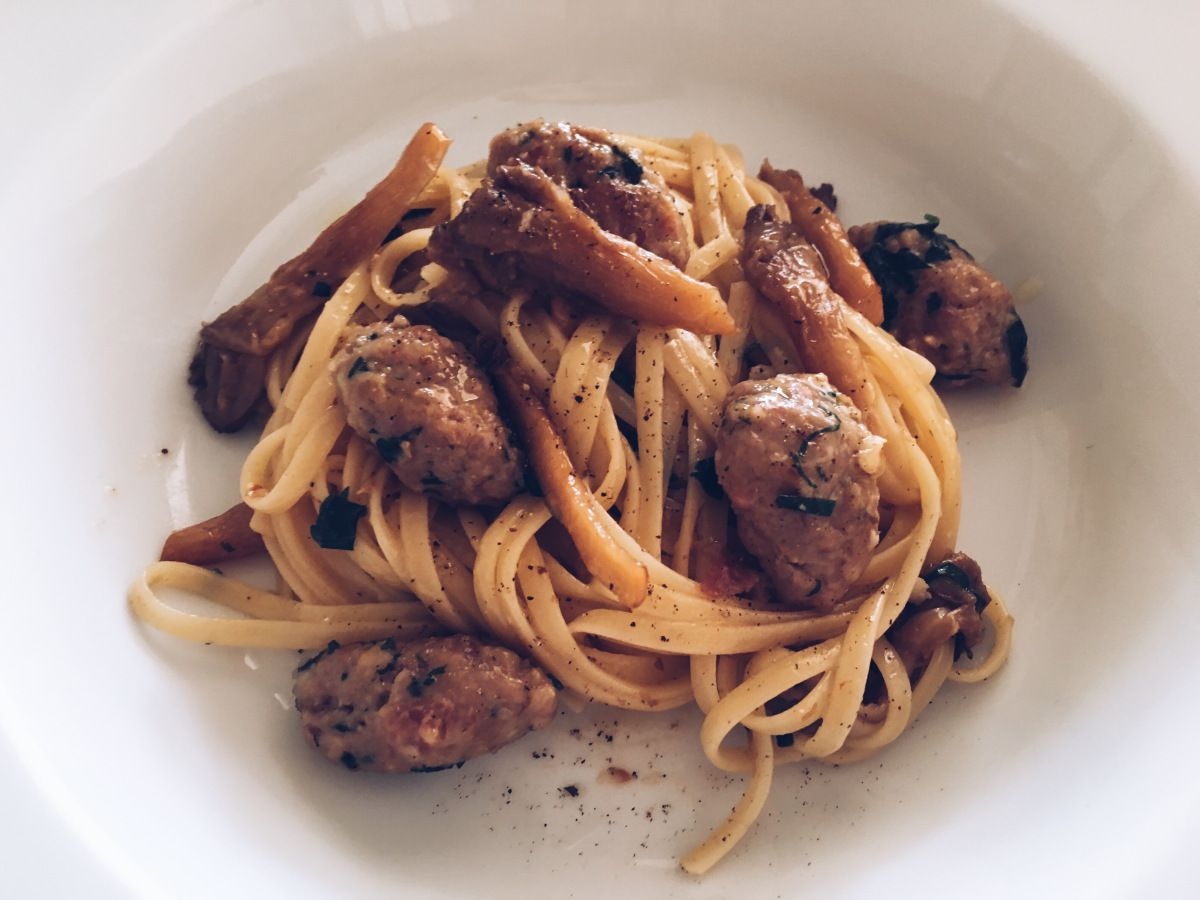meatballs: (338, 331, 530, 502), (725, 385, 877, 600), (287, 643, 551, 757)
plain spaghetti: (521, 310, 728, 702)
